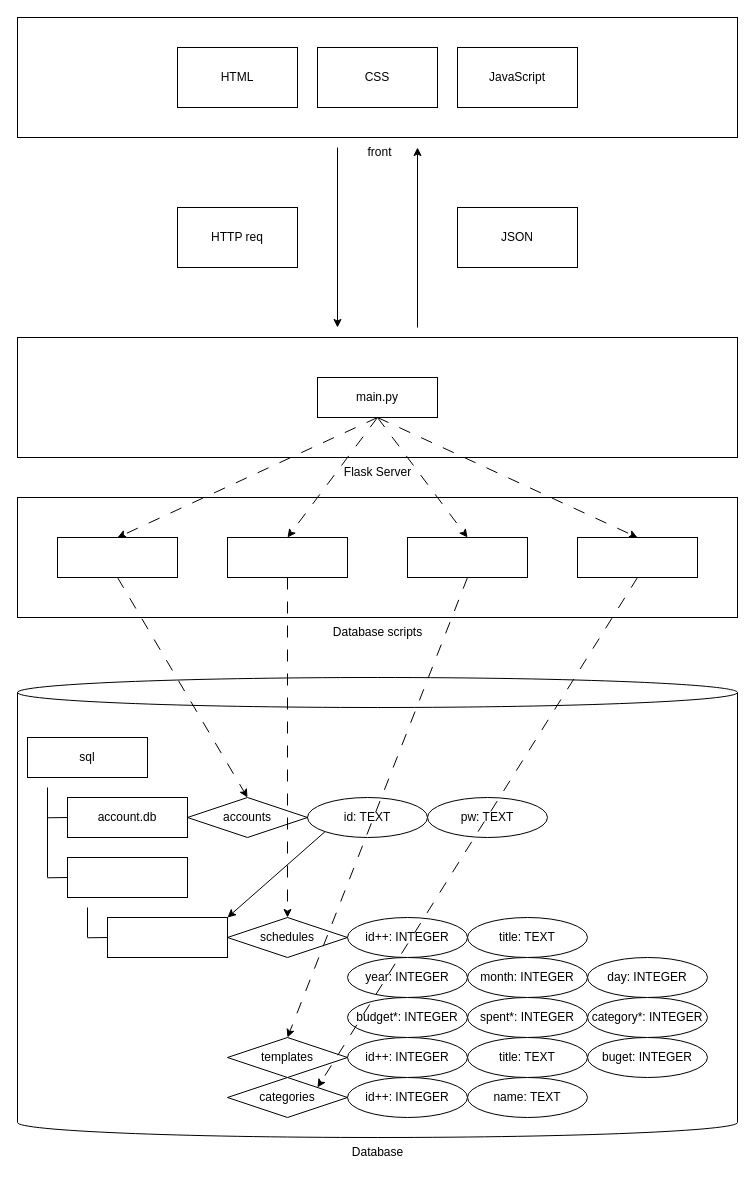
This 755x1185 diagram has some shape labels left out. Here are the shapes that lost their labels. From the top down, the box of each, then its label:
(56, 536, 178, 578): account.py
(226, 536, 348, 578): schedule.py
(406, 536, 528, 578): template.py
(576, 536, 698, 578): category.py
(66, 856, 188, 898): userdata
(106, 916, 228, 958): [account_id].db
